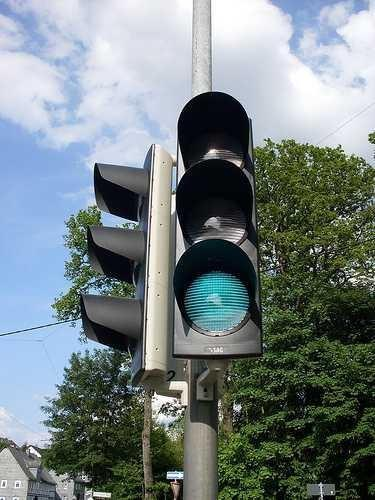3: (178, 82, 258, 174), (178, 174, 256, 248)
red traffic light: (179, 257, 262, 340)
